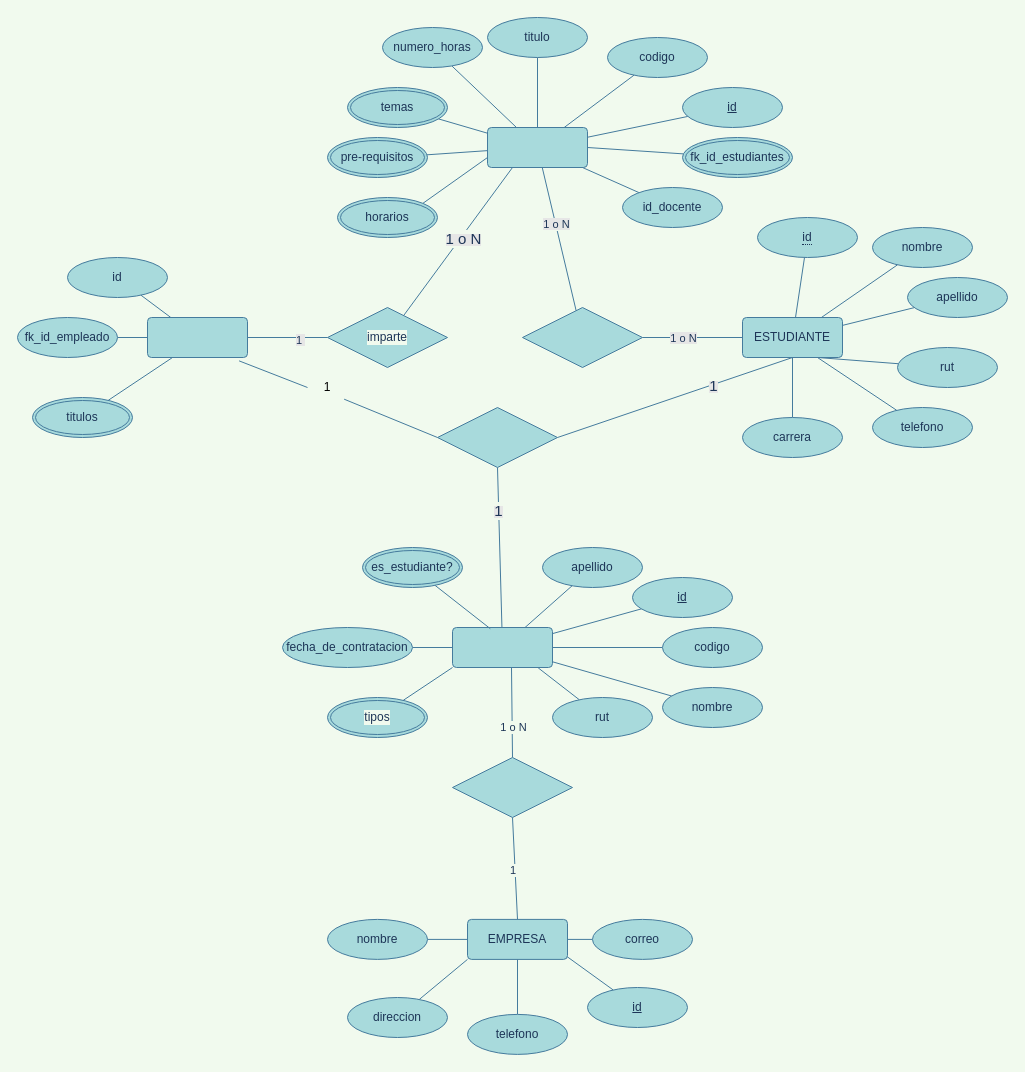
Image size: 1025x1072. Some labels were removed from this diagram. Here are the shapes that lost their labels. From the top down, the box of each, then its label:
(486, 126, 588, 168): CURSO
(146, 316, 248, 358): DOCENTE
(522, 306, 642, 368): asiste
(436, 406, 558, 468): Puede ser
(452, 626, 552, 668): EMPLEADO
(452, 756, 572, 818): contrata
